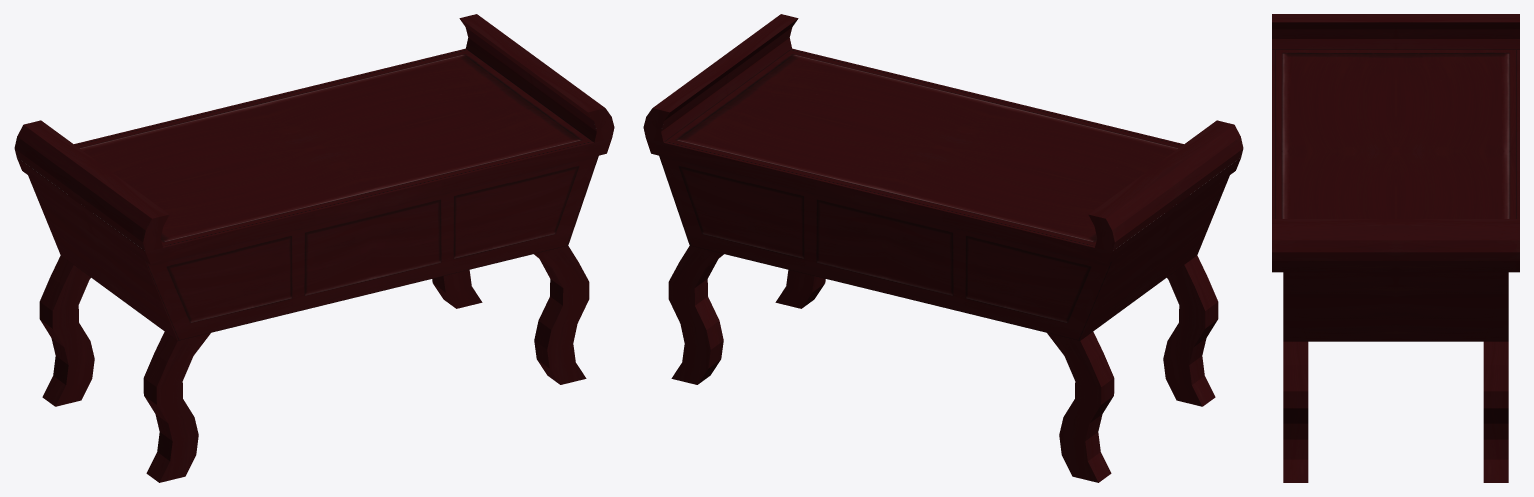
File: NNJ0810014.fbx
3 renders of one model, left to right at view 1: azimuth 30°, elevation 25°; view 2: azimuth 150°, elevation 25°; view 3: azimuth 270°, elevation 25°, orthographic. The views are drawn at different scales.
Parts seen in each view (by area): view 1: smNNJ0810014; view 2: smNNJ0810014; view 3: smNNJ0810014.
Boxes of the visible parts, x1,y1,x2,y2 form: smNNJ0810014: [14, 14, 614, 482]; smNNJ0810014: [643, 14, 1243, 482]; smNNJ0810014: [1272, 14, 1519, 482].
Size of the model in its own units: 204 by 112 by 96.21.
1 material, 1 textured.
